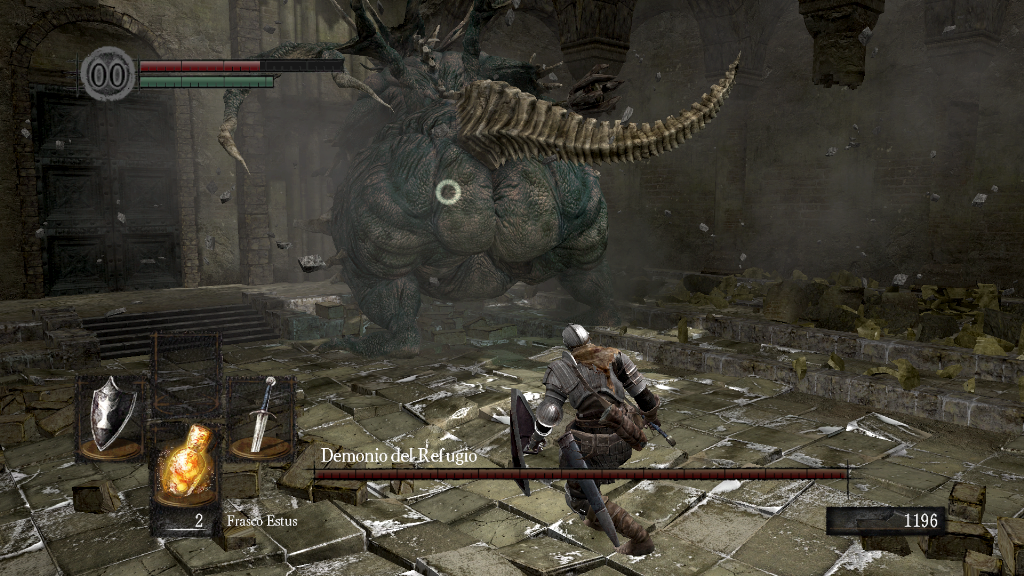asylumDemon: (221, 1, 741, 360)
bossHP: (314, 469, 847, 479)
health: (138, 58, 343, 71)
humanity: (80, 45, 136, 102)
player: (509, 322, 679, 558)
souls: (825, 506, 945, 536)
stamina: (138, 74, 274, 88)
